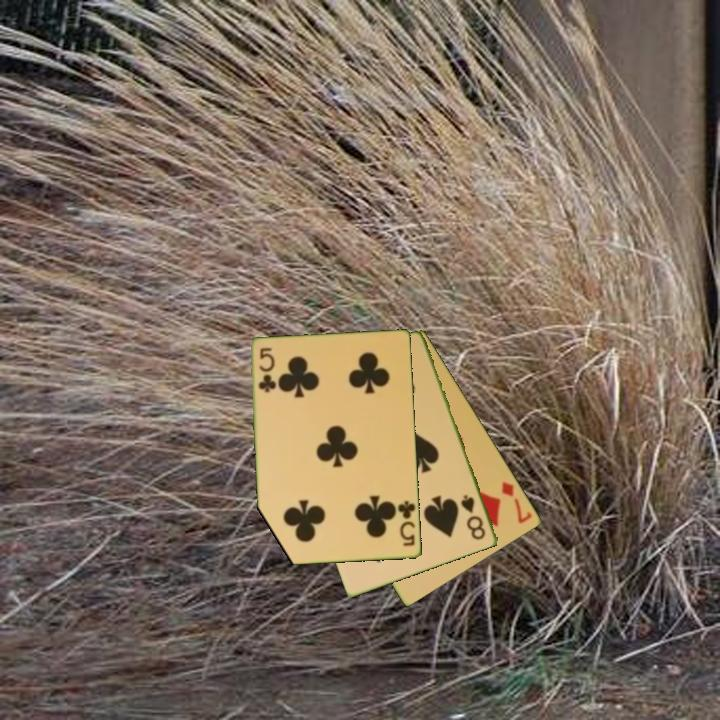5c: (395, 497, 418, 549), (255, 344, 277, 395)
7d: (498, 478, 535, 527)
8s: (458, 491, 489, 543)
